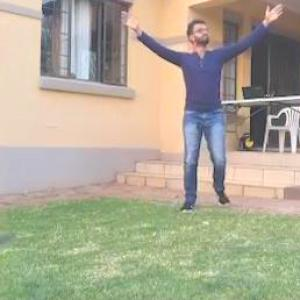takeoff: (106, 0, 277, 217)
